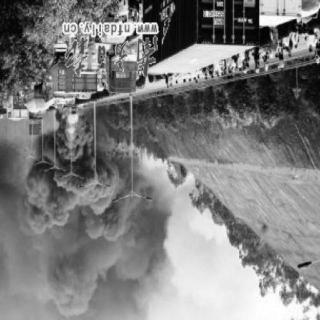Fire: (64, 107, 82, 149)
Smoke: (29, 148, 160, 320), (81, 112, 93, 148), (55, 111, 63, 147)
other: (110, 71, 137, 97)
